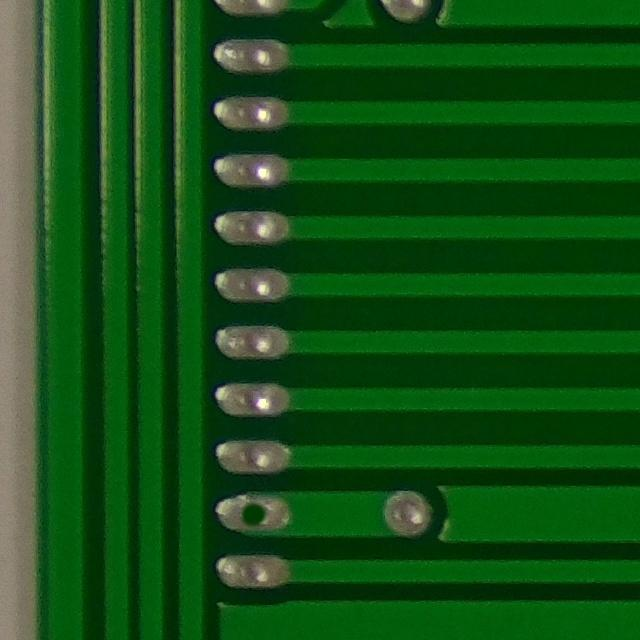missing_hole: (219, 480, 281, 544)
